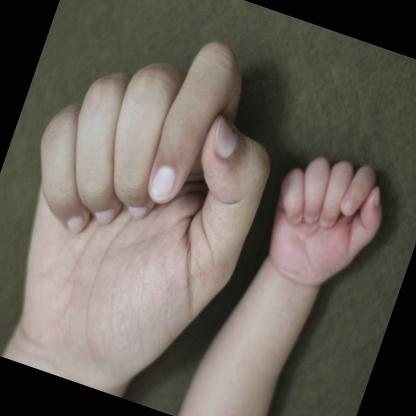Healthy Skin: (91, 65, 254, 252), (25, 238, 168, 370), (276, 177, 370, 260), (236, 270, 310, 374)
